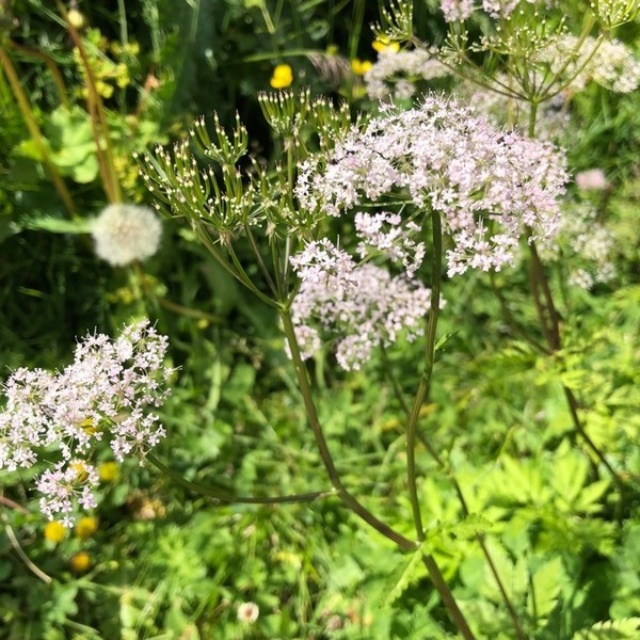obstacle: (160, 45, 563, 539), (21, 308, 259, 570)
